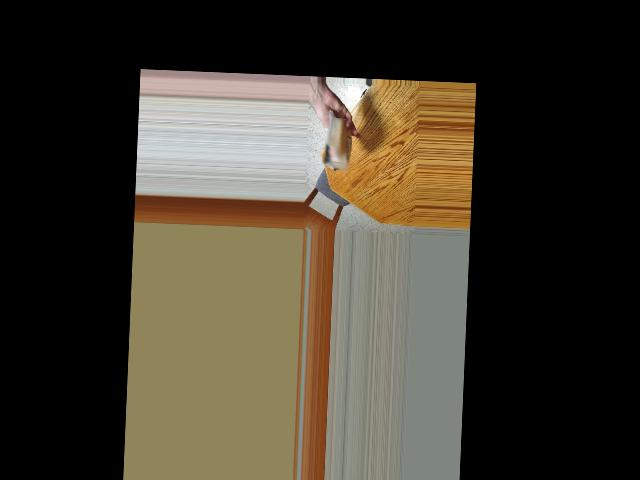cheese: (318, 115, 358, 169)
